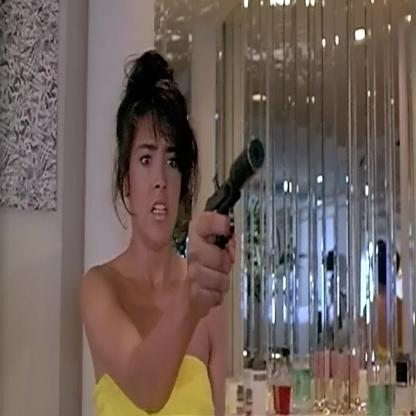gun: (195, 115, 277, 258)
